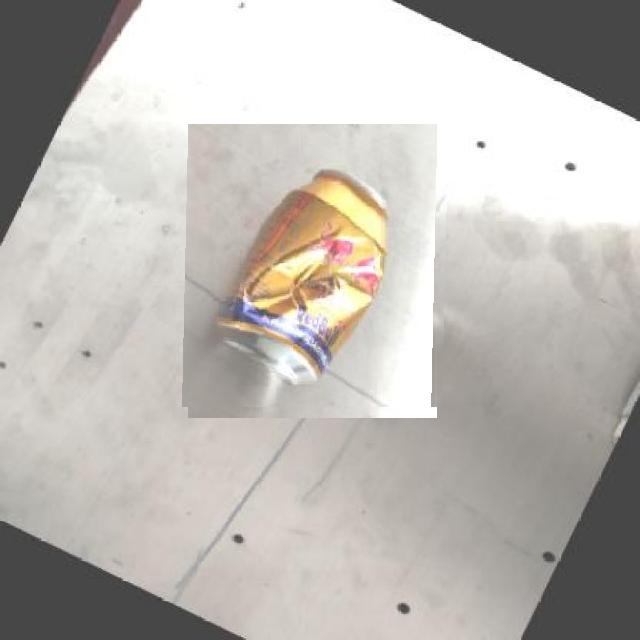recyclable: (176, 135, 448, 407)
